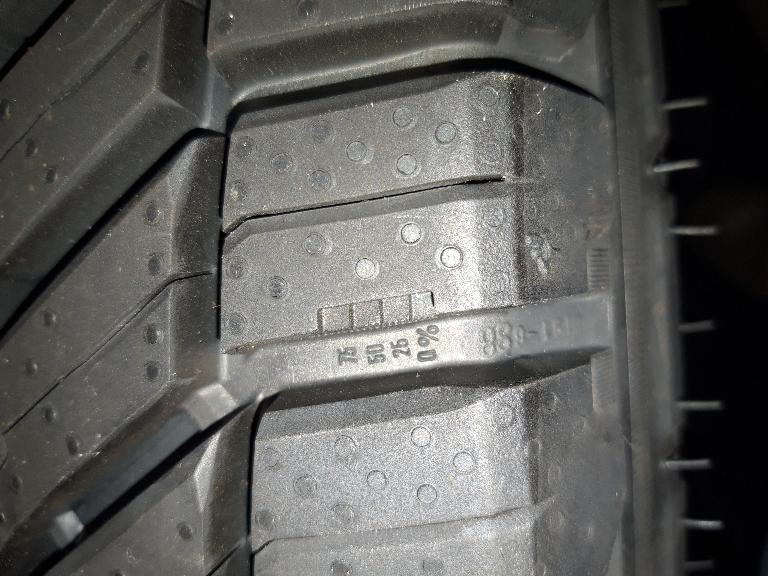temoin:100: (295, 289, 443, 343)
